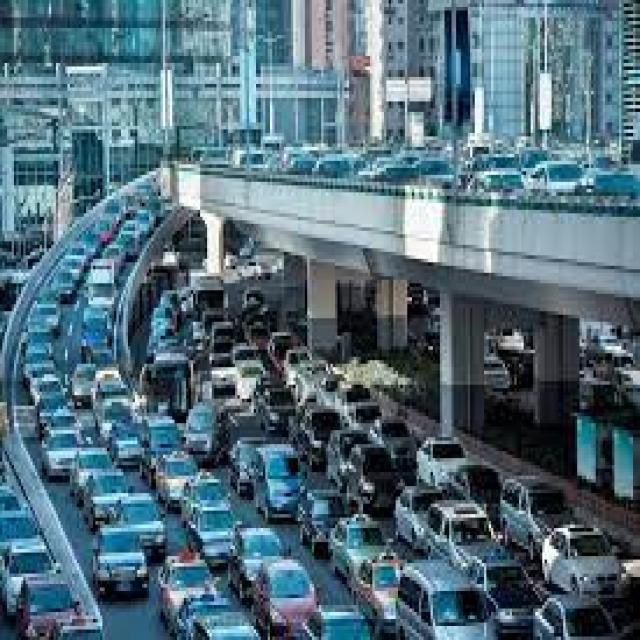vehicle: (486, 449, 578, 569), (91, 514, 170, 640), (391, 549, 473, 640), (0, 570, 106, 640), (144, 340, 213, 435), (262, 548, 334, 638), (225, 531, 300, 608), (73, 459, 138, 533), (0, 525, 54, 598), (340, 438, 397, 505), (183, 588, 256, 640), (366, 554, 407, 640), (419, 411, 468, 482), (342, 507, 387, 578), (152, 443, 228, 484), (298, 491, 351, 545), (78, 251, 124, 308), (0, 490, 37, 560), (216, 342, 278, 383), (393, 485, 438, 539), (45, 430, 92, 476), (29, 407, 72, 437)
